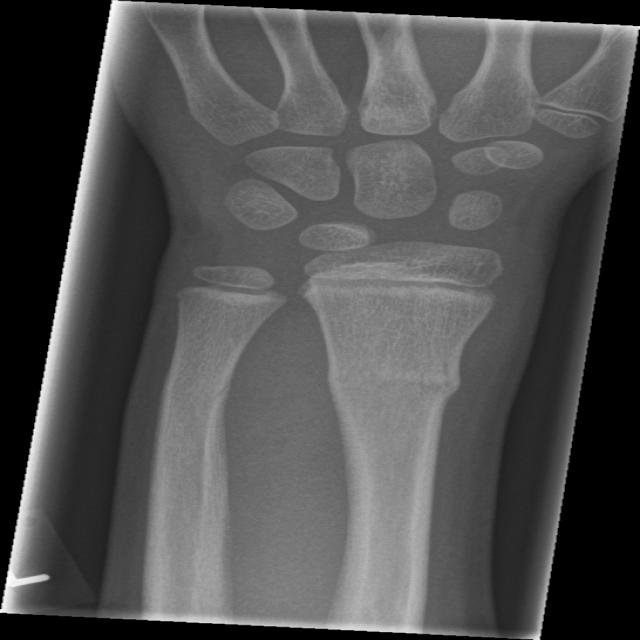radius fracture: (306, 328, 498, 499)
ulna fracture: (146, 324, 279, 514)
